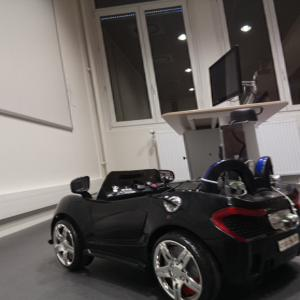big: (46, 156, 299, 299)
